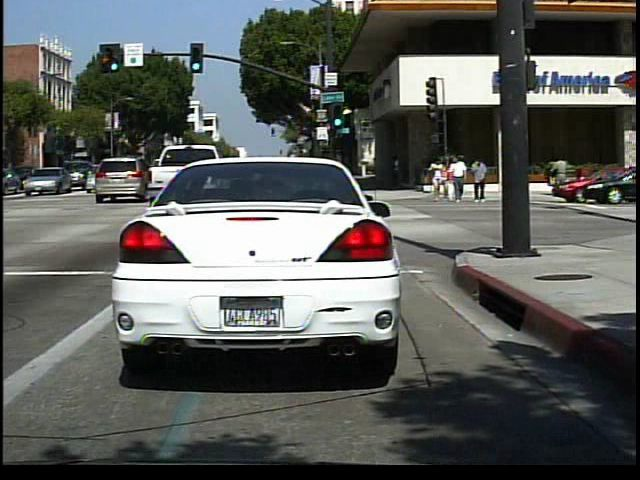person: (447, 150, 471, 205), (468, 152, 491, 203), (548, 153, 571, 199), (428, 156, 445, 205), (440, 158, 455, 205)
